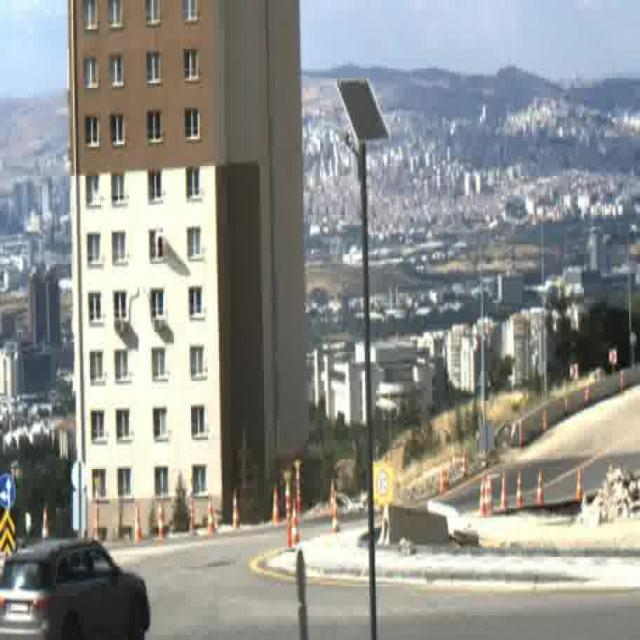Car: (0, 531, 149, 639)
